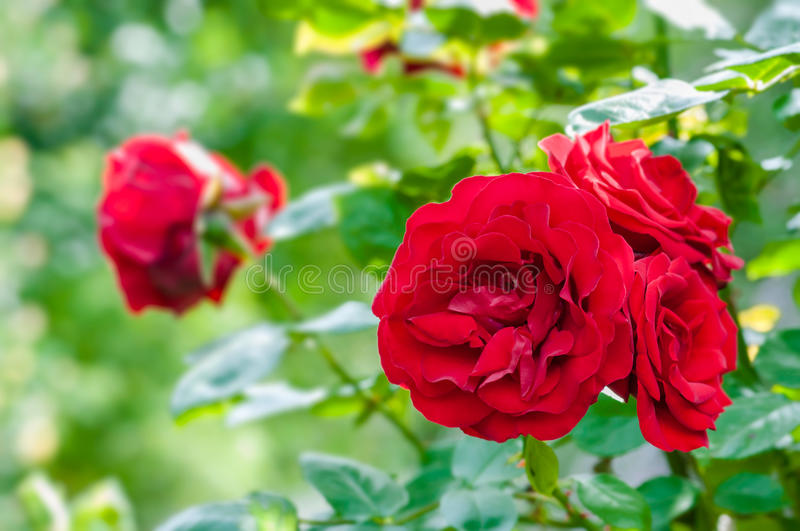RedRose: (374, 157, 634, 445), (88, 135, 285, 319), (540, 114, 747, 272), (604, 257, 747, 473)
